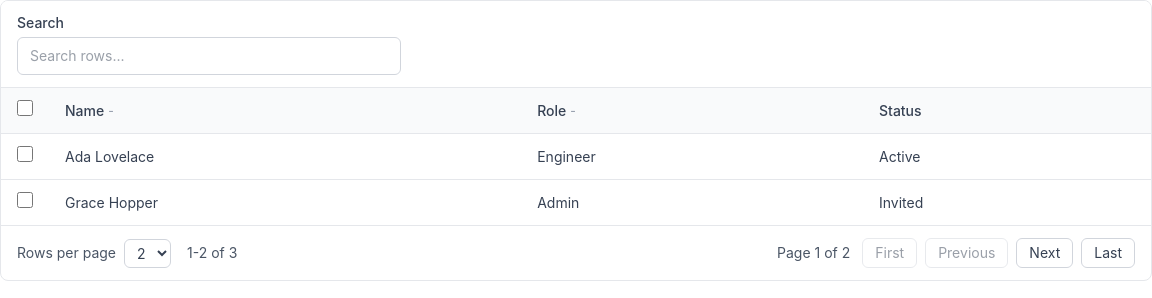
Test: DataGrid › resets to the first page when filtering changes
Click the button with aria-label "Go to next page" at (1045, 253), box 1016,238 -> 1073,268
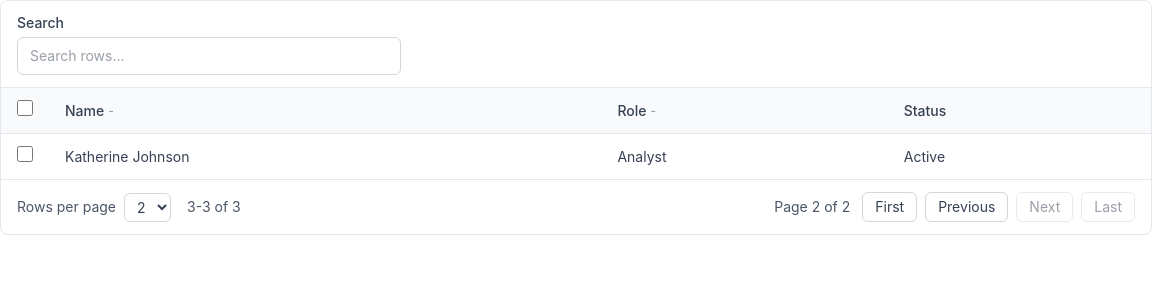
Now the text "Katherine Johnson" is shown, box 49,134 -> 601,179
Type "ada" into the search field at (209, 56), box 17,37 -> 401,75
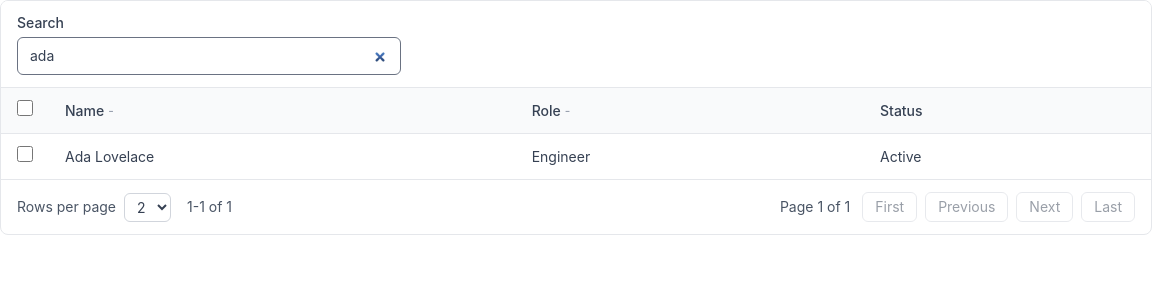
Now the text "Ada Lovelace" is shown, box 49,134 -> 516,179
Now the text "Page 1 of 1" is shown, box 780,197 -> 850,217
